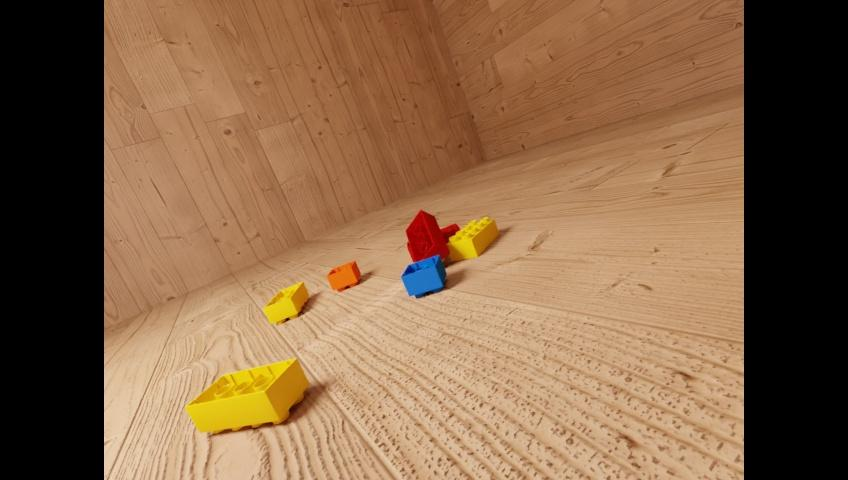2x2_blue: (401, 254, 445, 297)
2x2_orange: (326, 260, 360, 291)
4x2_red: (405, 209, 448, 263), (438, 223, 459, 239)
4x2_yellow: (185, 357, 308, 433), (446, 216, 498, 261), (263, 281, 308, 324)
